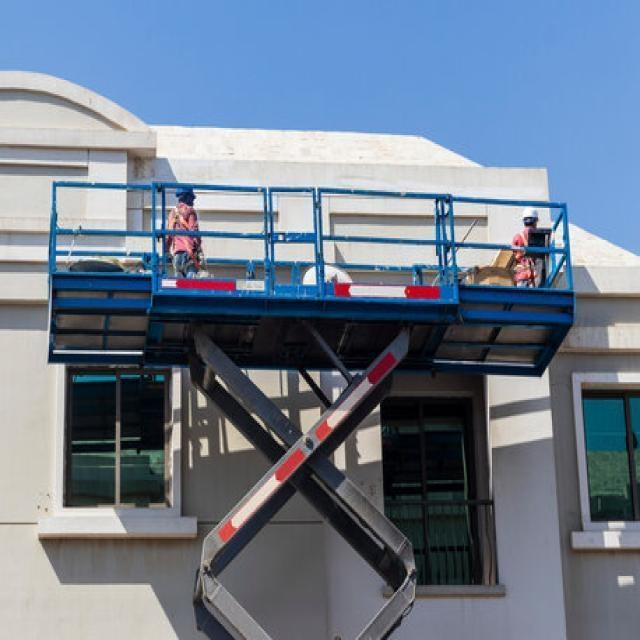Arnes_seguridad: (169, 207, 198, 275), (514, 230, 540, 277)
